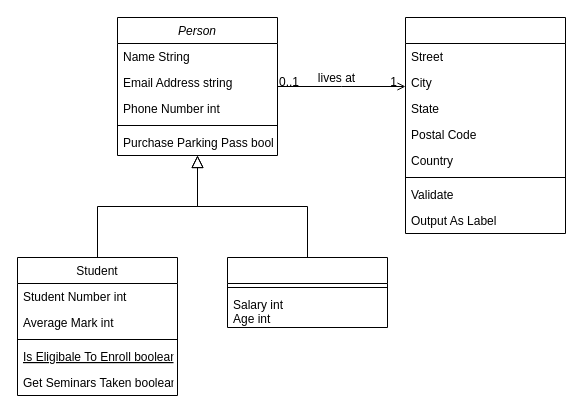
Some shapes in this 583 by 416 pixel diagram are drawn without their labels. Here are the shapes that lost their labels. From the top down, the box of each, then its label:
(404, 16, 566, 234): Address
(226, 256, 388, 328): Professor
